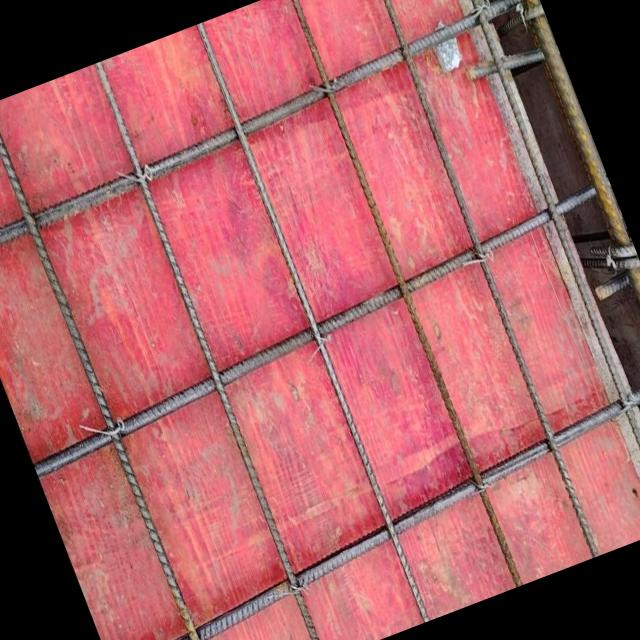ribbed bar: (11, 182, 622, 483), (83, 371, 640, 640), (194, 24, 433, 624), (0, 0, 538, 266), (286, 0, 524, 588), (89, 62, 331, 640), (362, 0, 605, 558), (0, 104, 225, 640), (441, 0, 640, 528), (487, 0, 640, 510)
